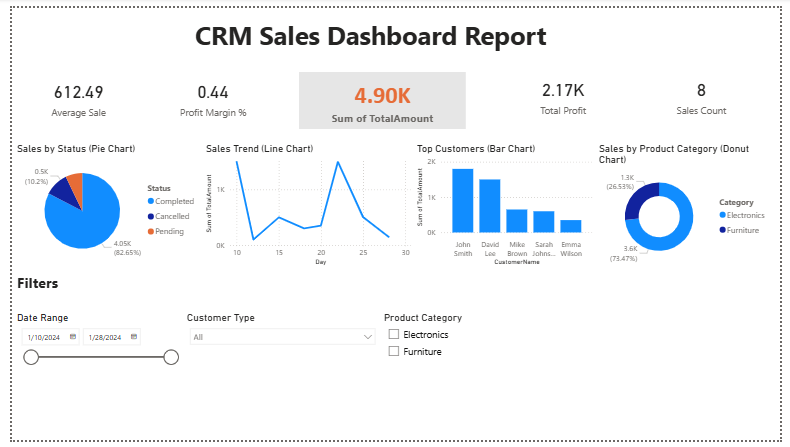

This screenshot's page, from the dashboard's own definition file:
{"tool":"powerbi","page":{"name":"Dashboard","canvas":[1280,720],"ordinal":0},"visuals":[{"type":"card","fields":{"Values":["Sales.TotalAmount"]},"box":[478.4,106.7,278.5,95.4],"z":0},{"type":"textbox","box":[300.2,10.5,630.4,74.7],"z":1000},{"type":"pieChart","title":"Sales by Status (Pie Chart)","fields":{"Category":["Sales.Status"],"Y":["Sales.TotalAmount"]},"box":[3,223.6,315.4,210.8],"z":2000},{"type":"lineChart","title":"Sales Trend (Line Chart)","fields":{"Category":["Sales.SaleDate.Variation.Date Hierarchy.Day"],"Y":["Sales.TotalAmount"]},"box":[318.4,223.6,352.3,210.8],"z":3000},{"type":"clusteredColumnChart","title":"Top Customers (Bar Chart)","fields":{"Category":["SalesSummary.CustomerName"],"Y":["SalesSummary.TotalAmount"]},"box":[670.7,223.6,303.1,210.8],"z":4000},{"type":"donutChart","title":"Sales by Product Category (Donut Chart)","fields":{"Category":["Products.Category"],"Y":["Sales.TotalAmount"]},"box":[973.8,223.6,295.4,210.8],"z":5000},{"type":"slicer","title":"Date Range","fields":{"Values":["Sales.SaleDate"]},"box":[3,505.1,283.1,155.4],"z":6000},{"type":"slicer","title":"Customer Type","fields":{"Values":["Customers.CustomerType"]},"box":[286.1,505.1,329.2,83.1],"z":7000},{"type":"slicer","title":"Product Category","fields":{"Values":["Products.Category"]},"box":[615.4,504.9,318.2,106.1],"z":8000},{"type":"textbox","box":[3,434.7,94.1,49.3],"z":9000},{"type":"card","fields":{"Values":["Sales.Average Sale"]},"box":[3,106.1,215.1,85.1],"z":10000},{"type":"card","fields":{"Values":["Sales.Profit Margin %"]},"box":[218.1,106.1,233,85.1],"z":11000},{"type":"card","fields":{"Values":["SalesSummary.Total Profit"]},"box":[791.7,106.1,253.9,77.7],"z":12000},{"type":"card","fields":{"Values":["Sales.Sales Count"]},"box":[1018.8,106.1,261.4,77.7],"z":12001}]}

Visuals, with their boxes in screenshot pixels (x1, y1, x2, y2), scaled from the page's 1280x720 canvas onto the 790x447 screenshot:
card - Sales.TotalAmount: box(295, 66, 467, 125)
textbox: box(185, 7, 574, 53)
"Sales by Status (Pie Chart)" pieChart: box(2, 139, 197, 270)
"Sales Trend (Line Chart)" lineChart: box(197, 139, 414, 270)
"Top Customers (Bar Chart)" clusteredColumnChart: box(414, 139, 601, 270)
"Sales by Product Category (Donut Chart)" donutChart: box(601, 139, 783, 270)
"Date Range" slicer: box(2, 314, 177, 410)
"Customer Type" slicer: box(177, 314, 380, 365)
"Product Category" slicer: box(380, 313, 576, 379)
textbox: box(2, 270, 60, 300)
card - Sales.Average Sale: box(2, 66, 135, 119)
card - Sales.Profit Margin %: box(135, 66, 278, 119)
card - SalesSummary.Total Profit: box(489, 66, 645, 114)
card - Sales.Sales Count: box(629, 66, 789, 114)
